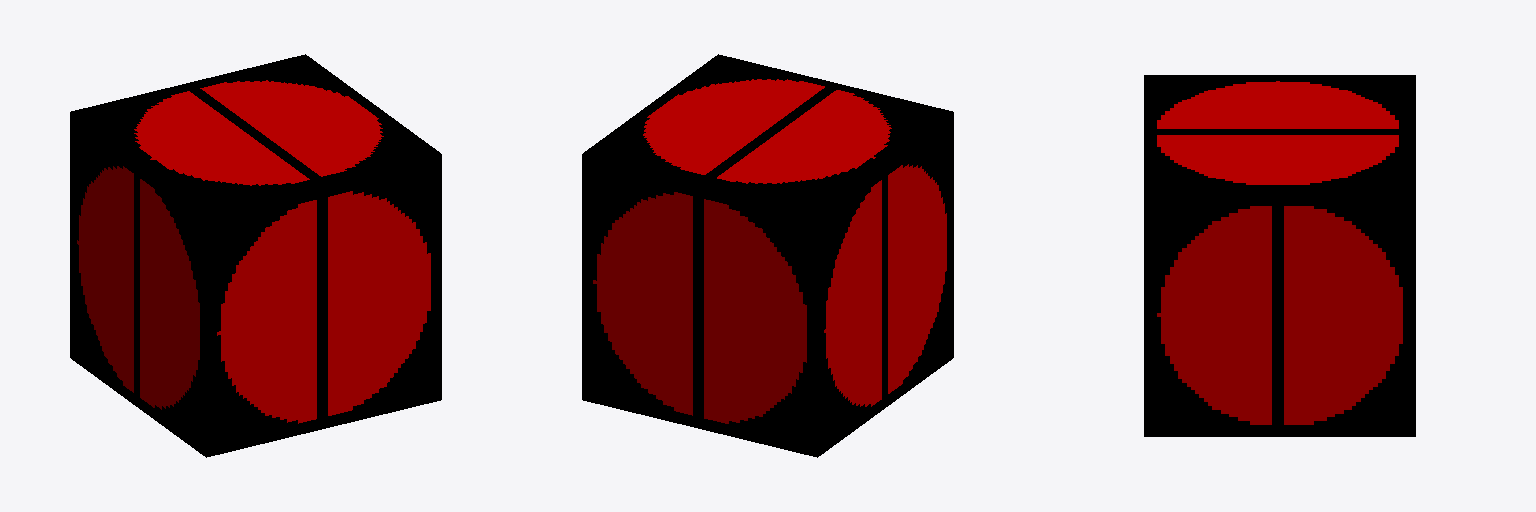
3 views of the same model, side by side, from view 1: azimuth 30°, elevation 25°; view 2: azimuth 150°, elevation 25°; view 3: azimuth 270°, elevation 25° (orthographic).
Parts seen in each view (by area): view 1: apple-chopped; view 2: apple-chopped; view 3: apple-chopped.
Part boxes in pixels (x1,y1,x2,y2): apple-chopped: (70,54,441,457); apple-chopped: (582,54,953,457); apple-chopped: (1144,75,1415,436).
Size of the model in its own units: 1 by 1 by 1.
Materials: 1 (1 with a texture image).